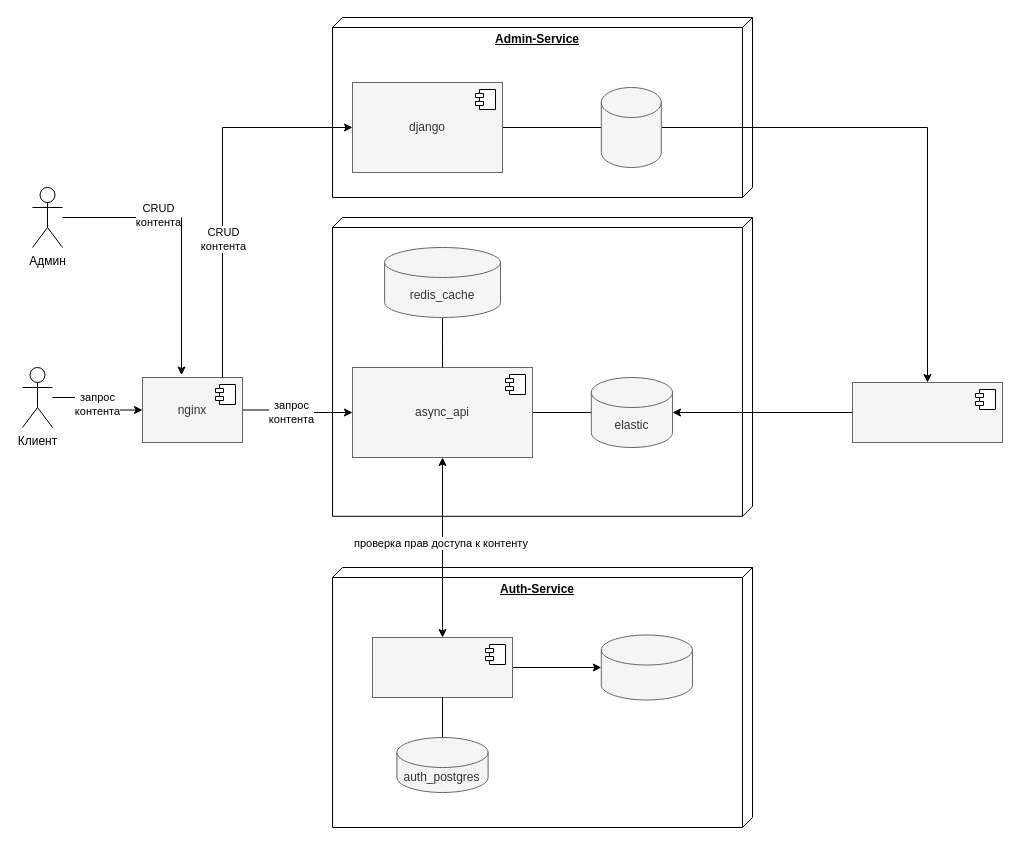
Some shapes in this 1020 by 845 pixel diagram are drawn without their labels. Here are the shapes that lost their labels. From the top down, the box of each, then its label:
(600, 86, 661, 168): postgres
(332, 216, 752, 516): Film-Service
(852, 382, 1002, 442): ETL
(372, 636, 512, 698): auth
(600, 634, 692, 700): auth_redis
